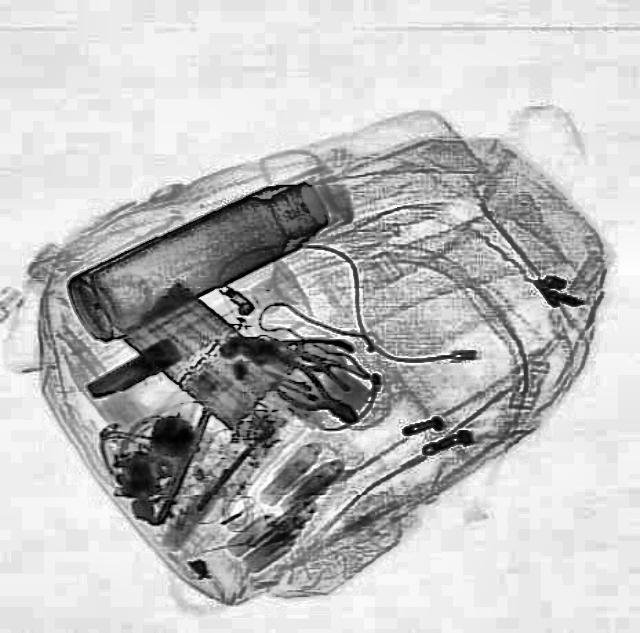Pliers: (258, 352, 368, 438), (254, 329, 354, 368)
